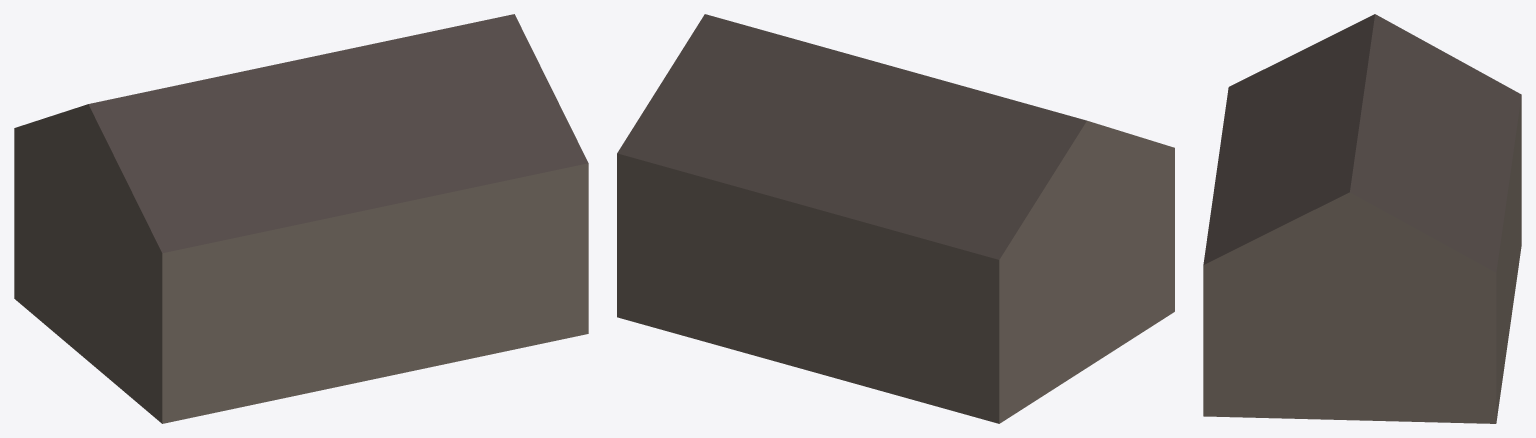
The picture shows the model from 3 angles, left to right: view 1: azimuth 30°, elevation 25°; view 2: azimuth 150°, elevation 25°; view 3: azimuth 270°, elevation 25°; orthographic projection. The views are drawn at different scales.
Visible parts, largest first — view 1: HP-w1202494175; view 2: HP-w1202494175; view 3: HP-w1202494175.
Part boxes in pixels (x1,y1,x2,y2): HP-w1202494175: (14,14,588,423); HP-w1202494175: (617,14,1174,423); HP-w1202494175: (1203,14,1521,423).
Bounding box in the file's own units: 15.8 × 9.05 × 11.44.
